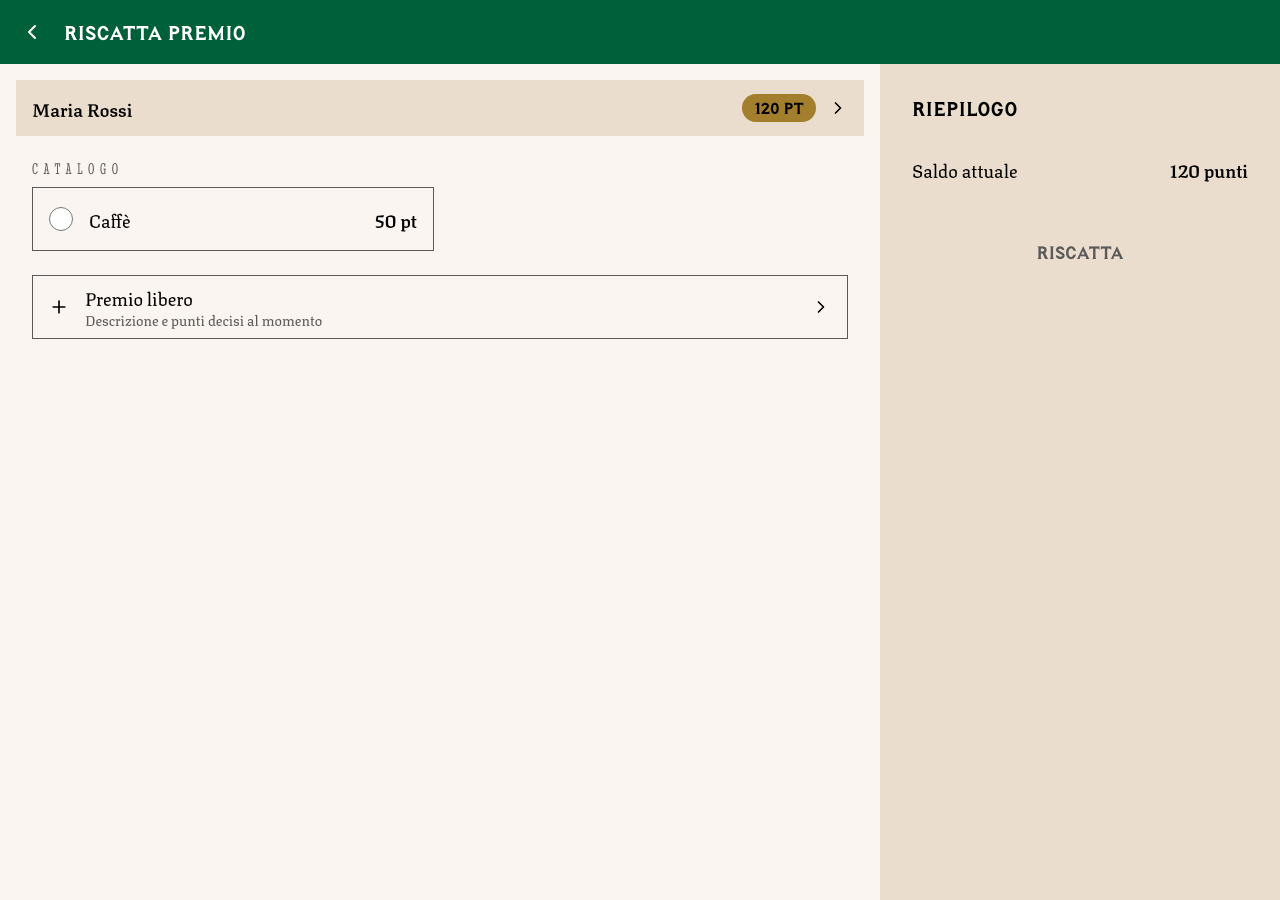
Test: FreeRewardForm: Premio libero › "Premio libero" from the catalog opens the form; "Indietro" returns to the catalog
Expected: the element "CATALOGO" is shown, left=32, top=160, right=434, bottom=251
Click the link "Premio libero Descrizione e punti decisi al momento": (139, 297) left=32, top=275, right=848, bottom=339
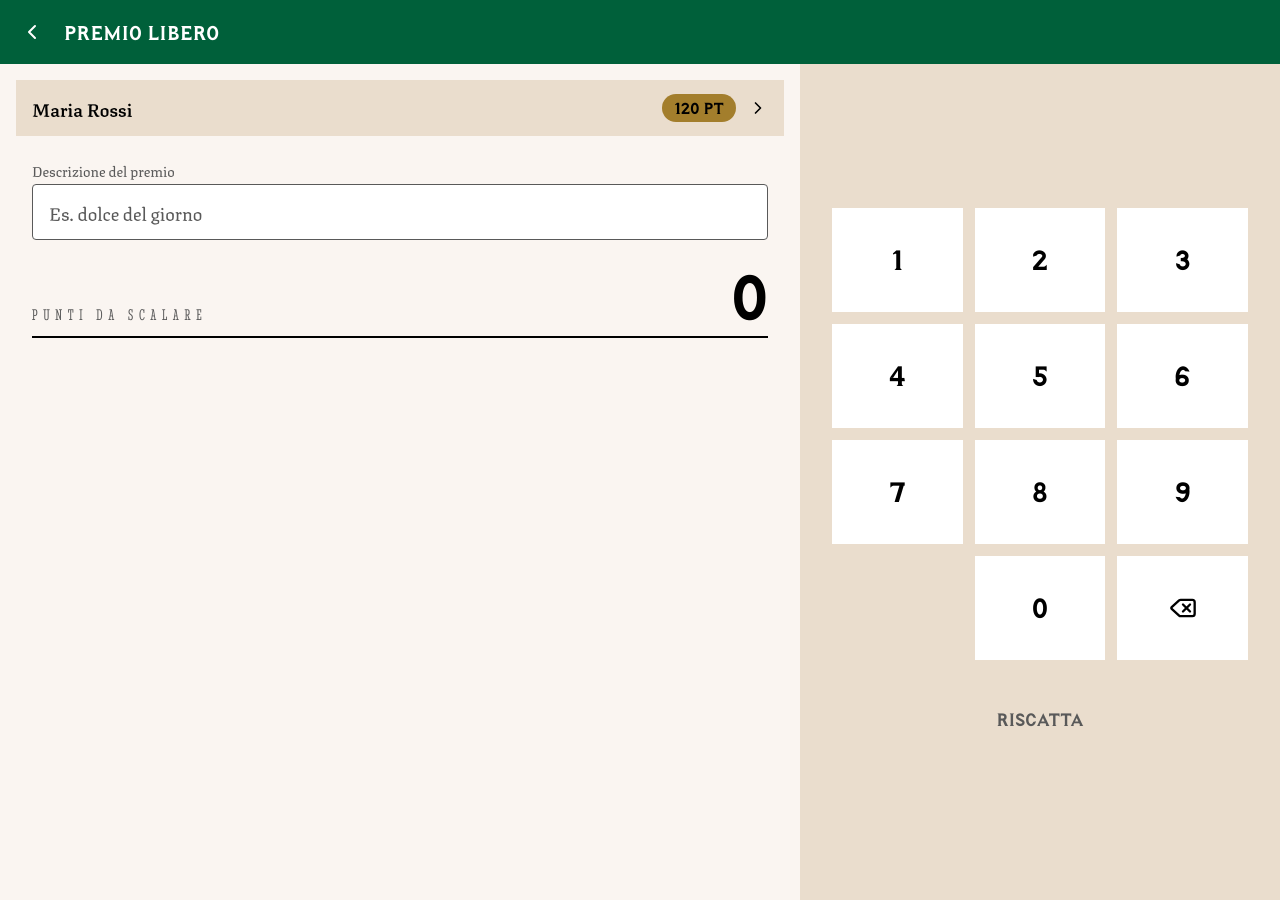
Now the heading "Premio libero" is shown, box left=64, top=20, right=220, bottom=44
Click the link named "Indietro": (32, 32) left=20, top=20, right=44, bottom=44
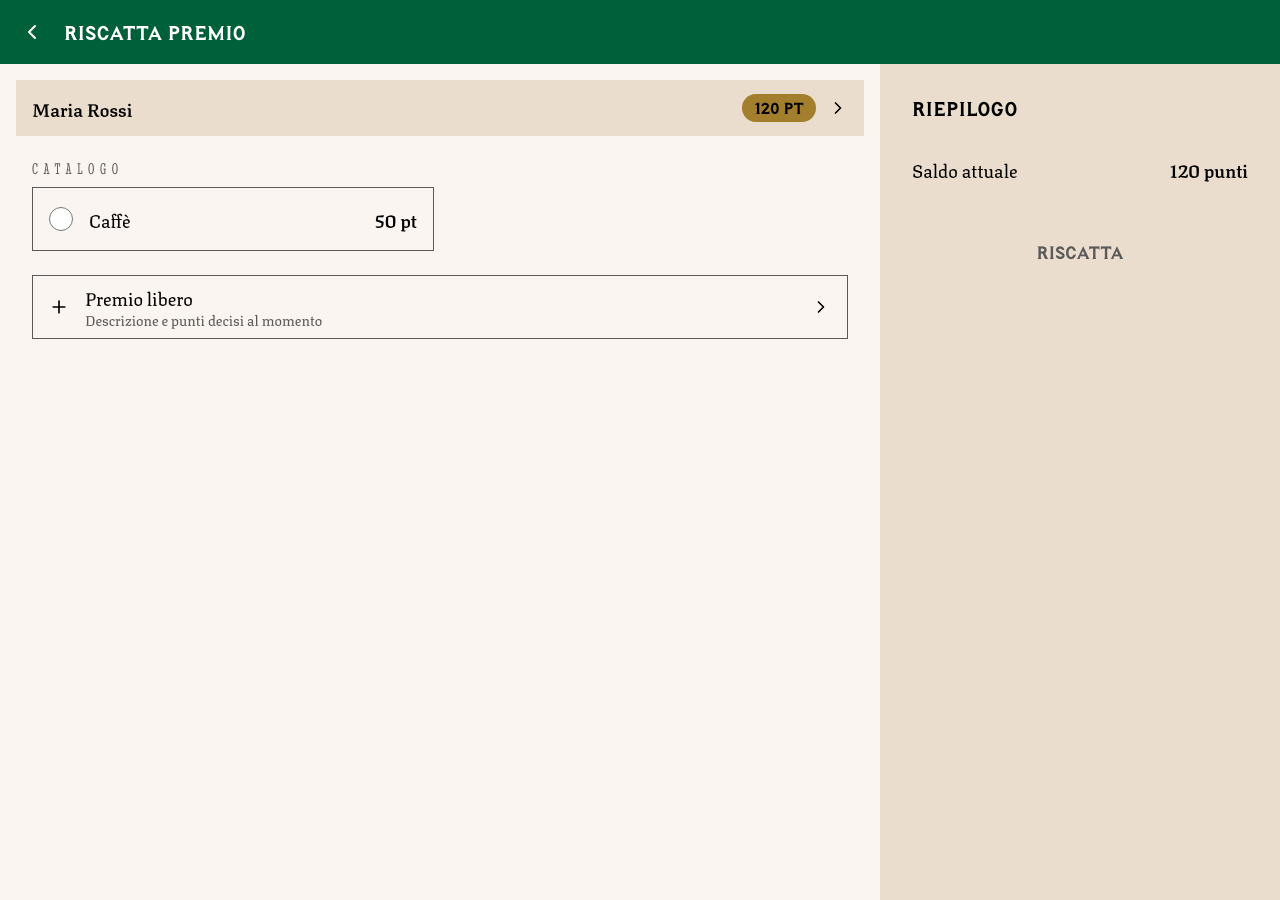
Now the heading "Riscatta premio" is shown, box left=64, top=20, right=246, bottom=44
Now the element "CATALOGO" is shown, box left=32, top=160, right=434, bottom=251
